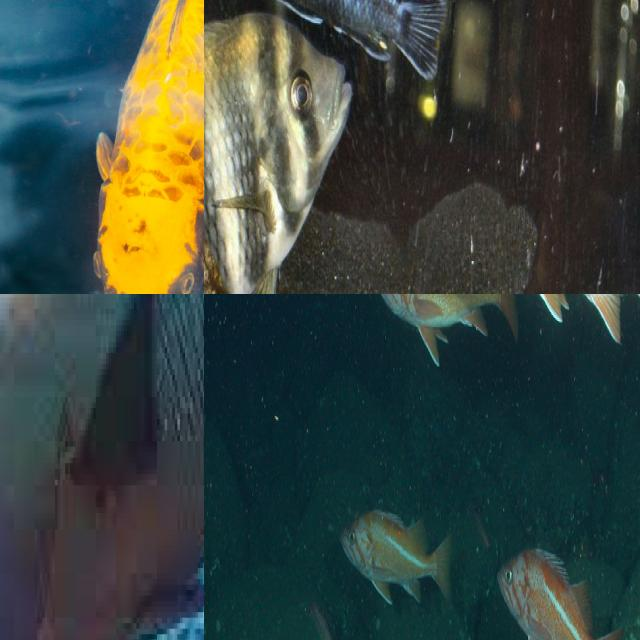fish: (0, 294, 204, 640), (0, 0, 204, 294), (204, 0, 445, 77)
